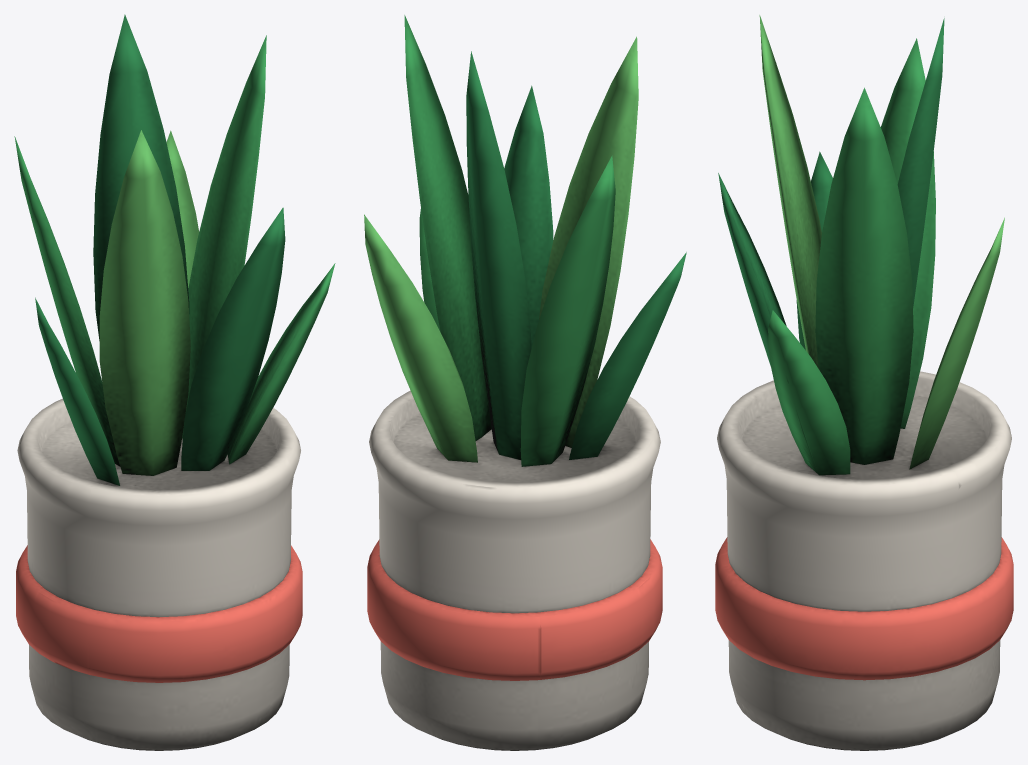
Rendered from plant_snake.glb.
3 renders of one model, left to right at view 1: azimuth 30°, elevation 25°; view 2: azimuth 150°, elevation 25°; view 3: azimuth 270°, elevation 25°, orthographic. The views are drawn at different scales.
Visible parts, largest first — view 1: plant_snake; view 2: plant_snake; view 3: plant_snake.
Part boxes in pixels (<box>): plant_snake: <box>14,14,335,750</box>; plant_snake: <box>364,15,686,750</box>; plant_snake: <box>715,15,1013,750</box>.
Size of the model in its own units: 0.4071 by 0.9255 by 0.364.
Materials: 6 (6 with a texture image).
